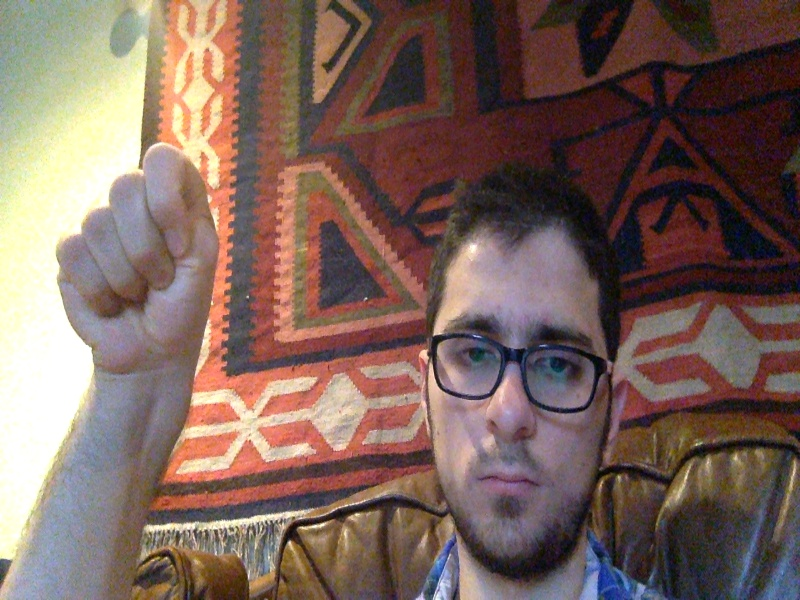0-hand: (54, 141, 218, 377)
